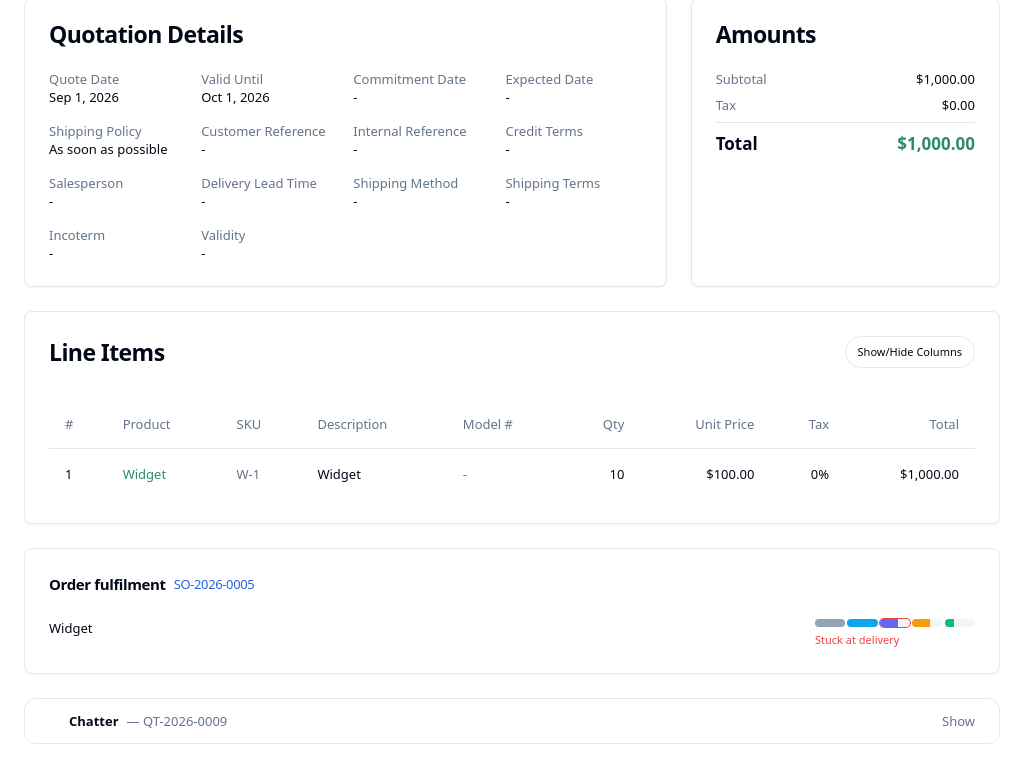
Line fulfilment chain bar (#411 / DX1) › shows the converted order’s line chain on the quotation detail page
The image size is (1024, 768).
(page scrolled)
Expected: the element named "Fulfilment chain" is shown, [24,548,1000,674]
Expected: the link "SO-2026-0005" is shown, [174,574,254,592]
Hover over the element named "Delivered 6 of 10" at (895, 622), box [880,618,910,626]
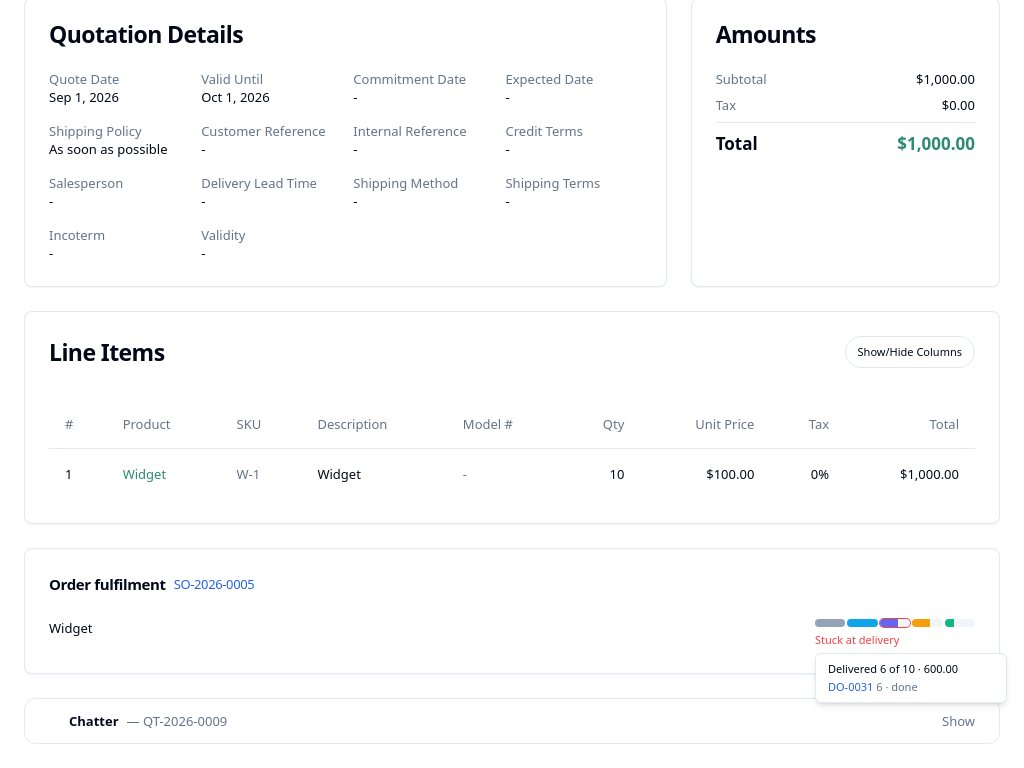
Now the tooltip shows "DO-0031", box [828,678,873,694]
Hover over the element named "Invoiced 6 of 10" at (927, 622), box [912,618,943,626]
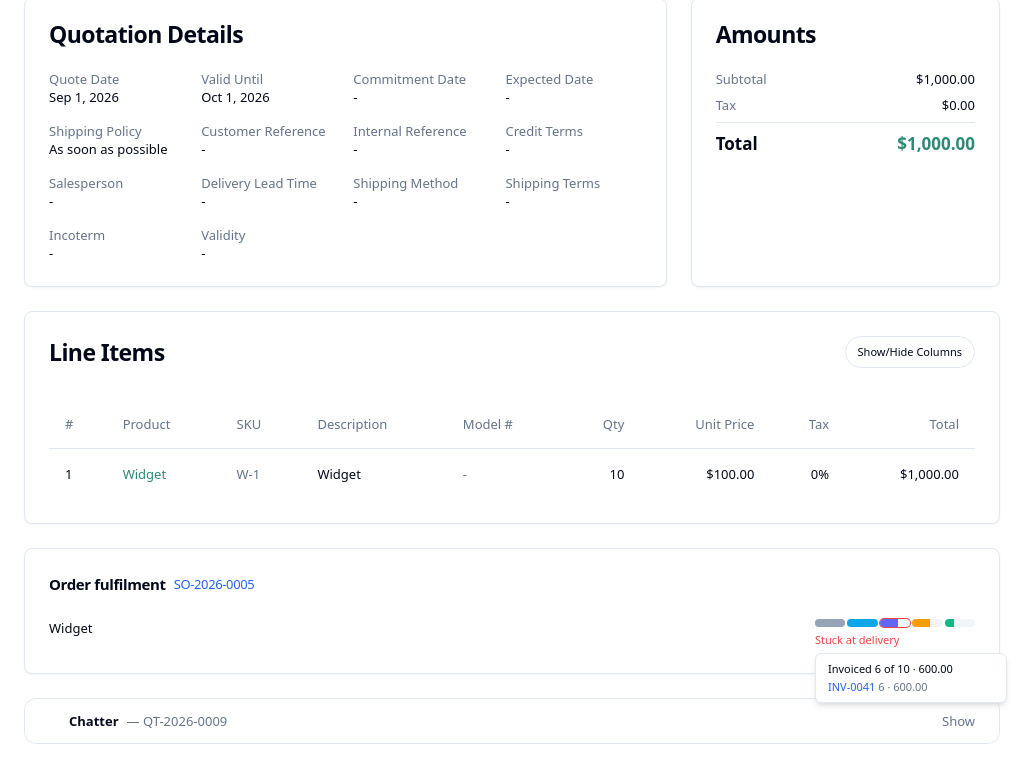
Now the tooltip shows "INV-0041", box [828,678,875,694]
Hover over the element named "Paid 3 of 10" at (960, 622), box [945,618,975,626]
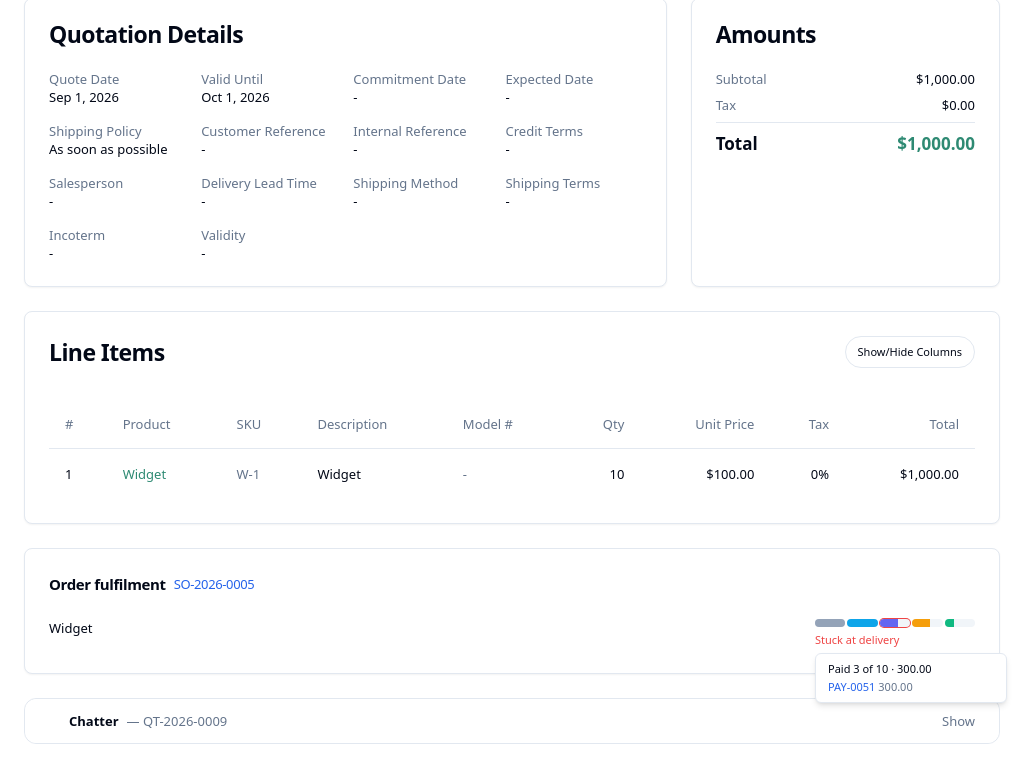
Now the tooltip shows "PAY-0051", box [828,678,875,694]
Move the pointer off the element named "Paid 3 of 10", box [945,618,975,626]
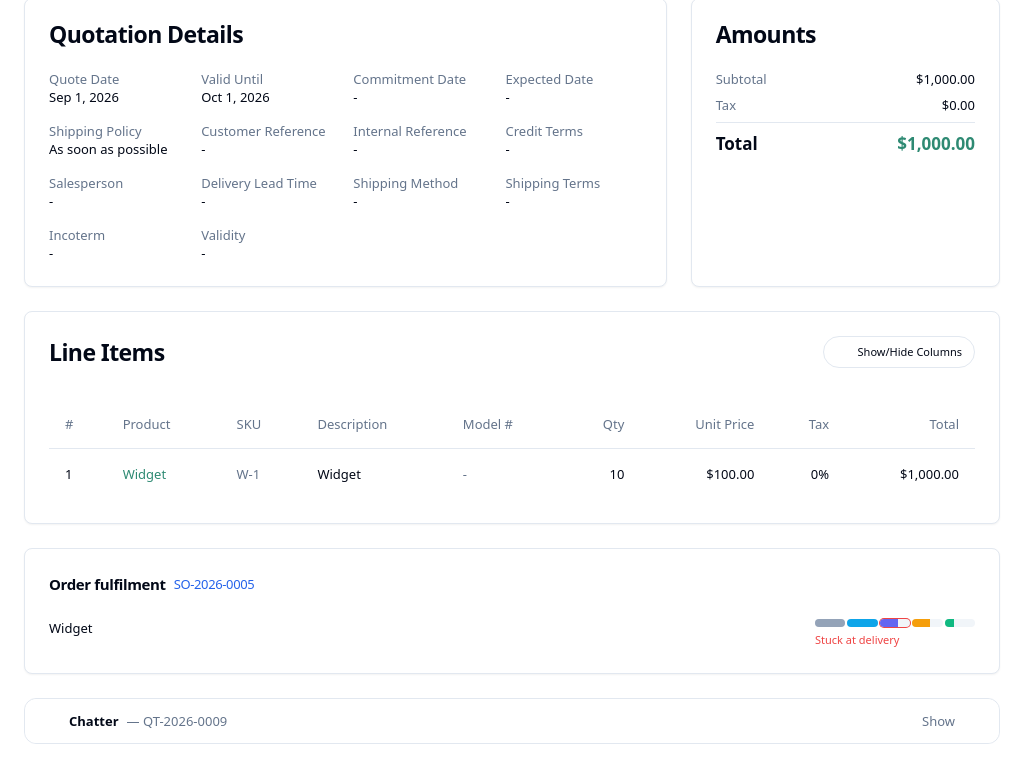
Now the tooltip "Paid 3 of 10 · 300.00 PAY-0051 300.00" is gone
